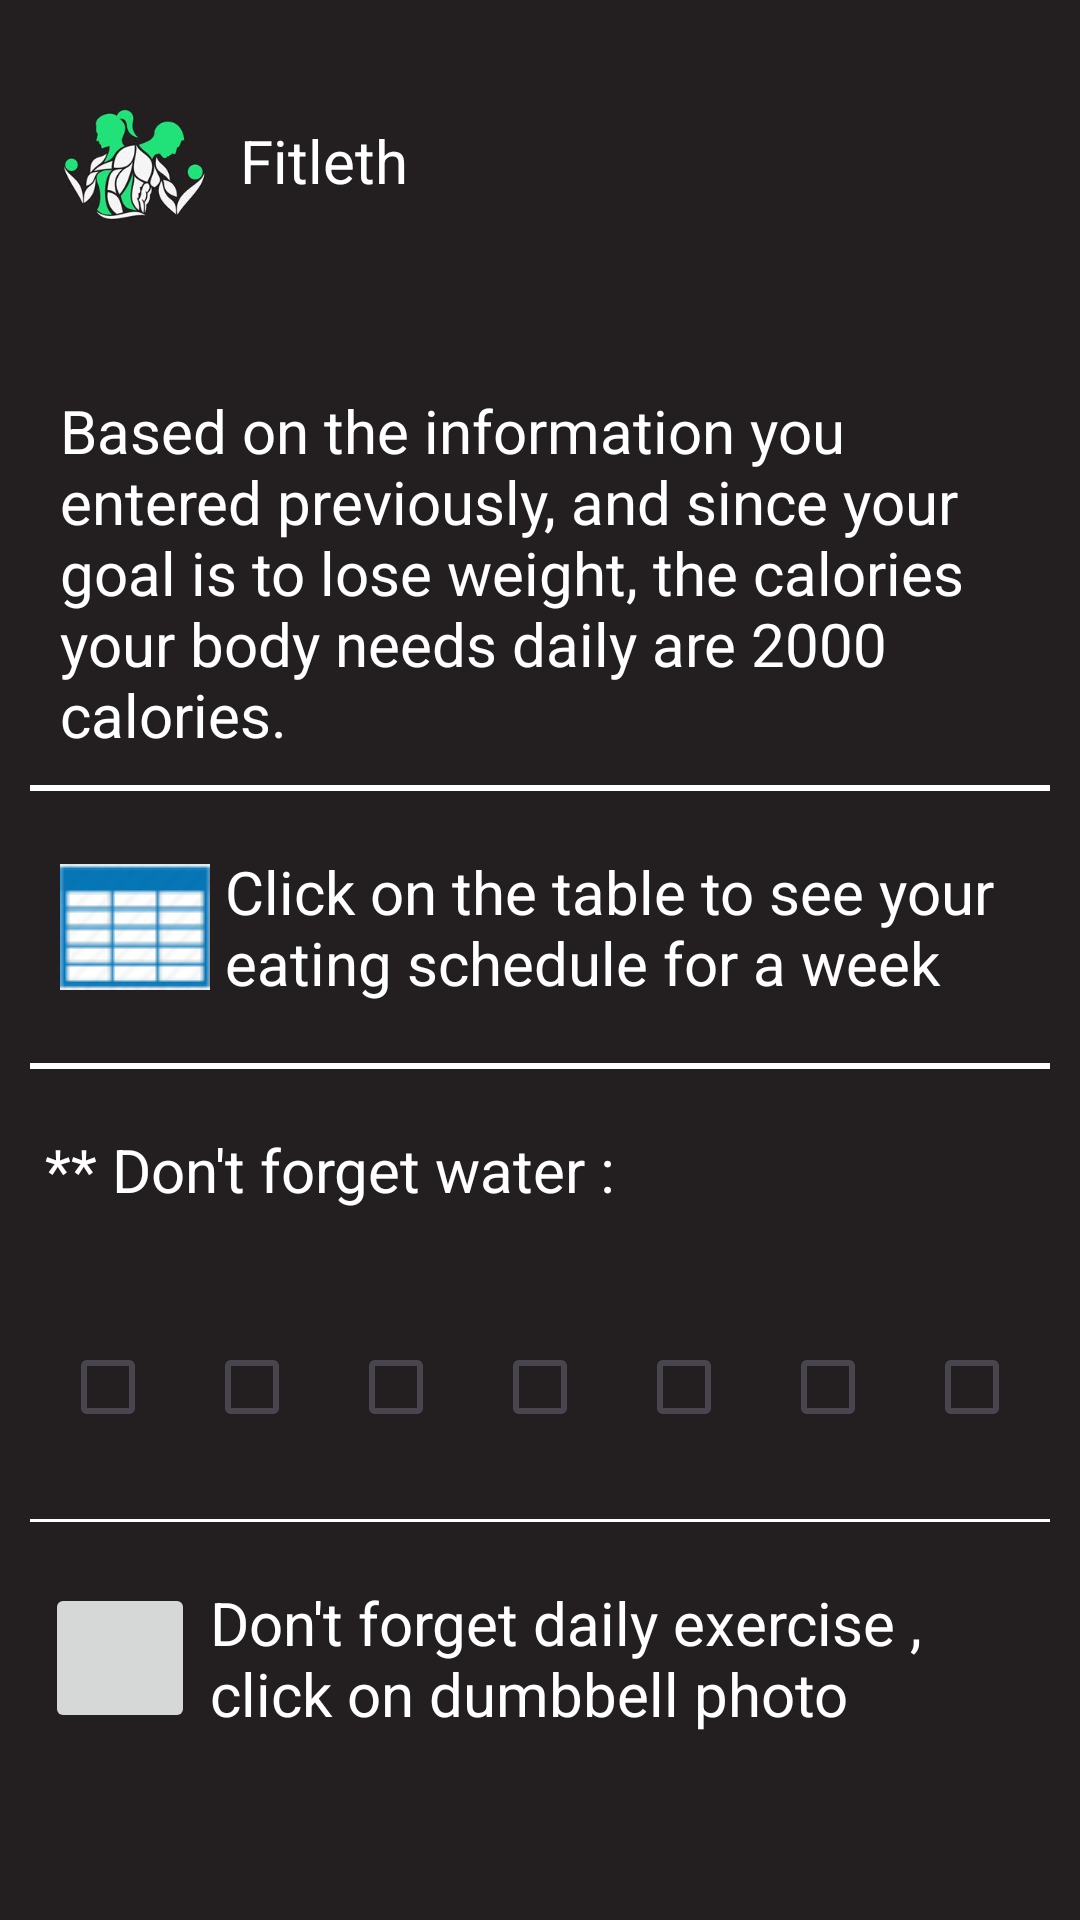

Icons on this 1080 × 1920 Android screen, each with the point to tap as (x,y):
fitness: (134,164)
